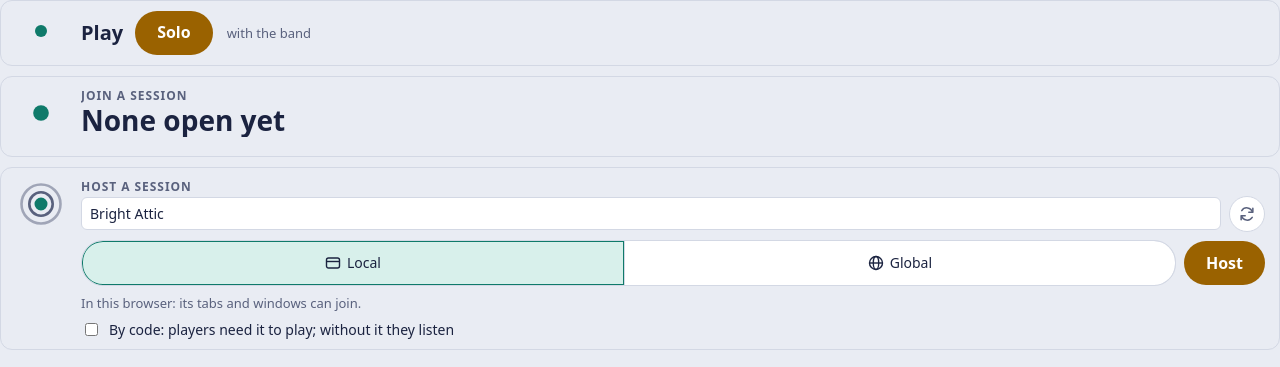
Test: the lobby, the door to the band › explains where a session will be, and draws local and global each with a glyph
Expected: the text "In this browser: its tabs and windows can join." is shown, left=81, top=294, right=361, bottom=312
Expected: the 6th icon is shown, left=868, top=255, right=884, bottom=271
Step 1. Click the radio button labelled "Global" → [900, 263], box left=625, top=241, right=1175, bottom=285
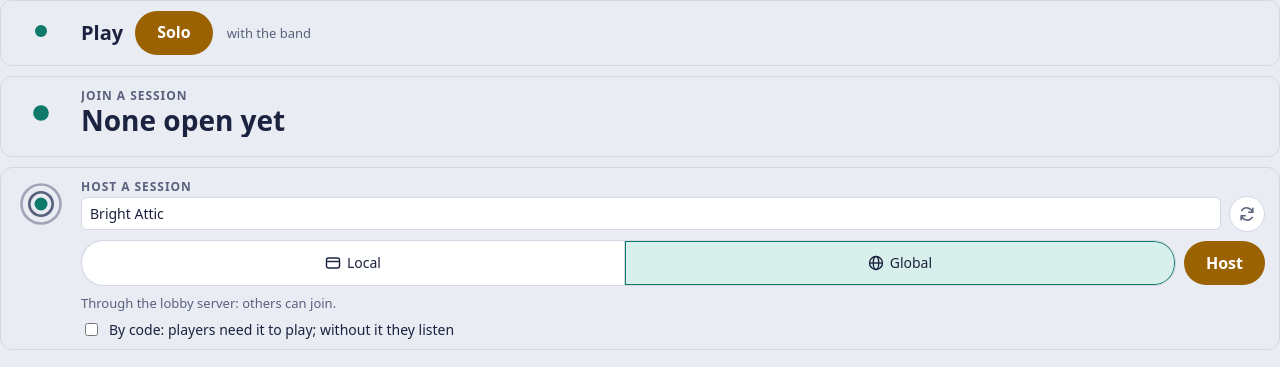
Expected: the text "Through the lobby server: others can join." is shown, left=81, top=294, right=336, bottom=312
